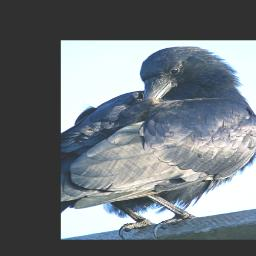Crow: (61, 46, 256, 238)
